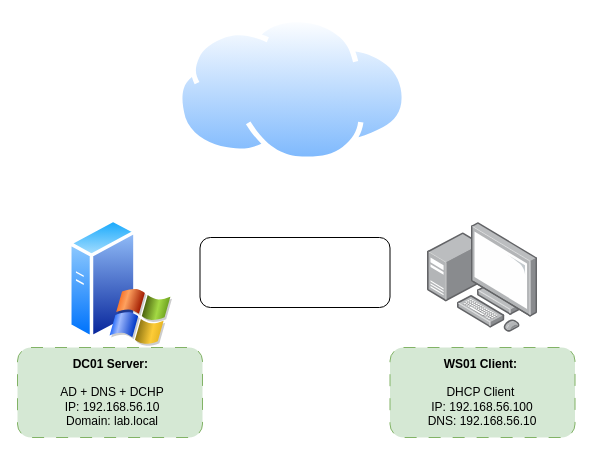
Image size: 593x455. Some labels were removed from this diagram. Each missing label, with the centre of its shape:
"DHCP Scope: 192.168.56.100–200 DNS: 192.168.56.10 Domain: lab.local" belongs at pixel 294 272.
"Virtual Box Host-Only Network 192.168.56.0/24 Gateway: 192.168.56.1" belongs at pixel 292 89.
